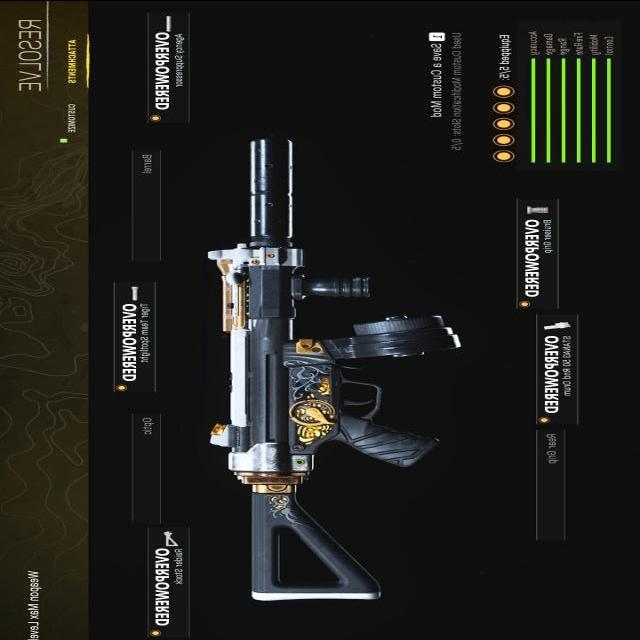rifle: (192, 133, 463, 615)
